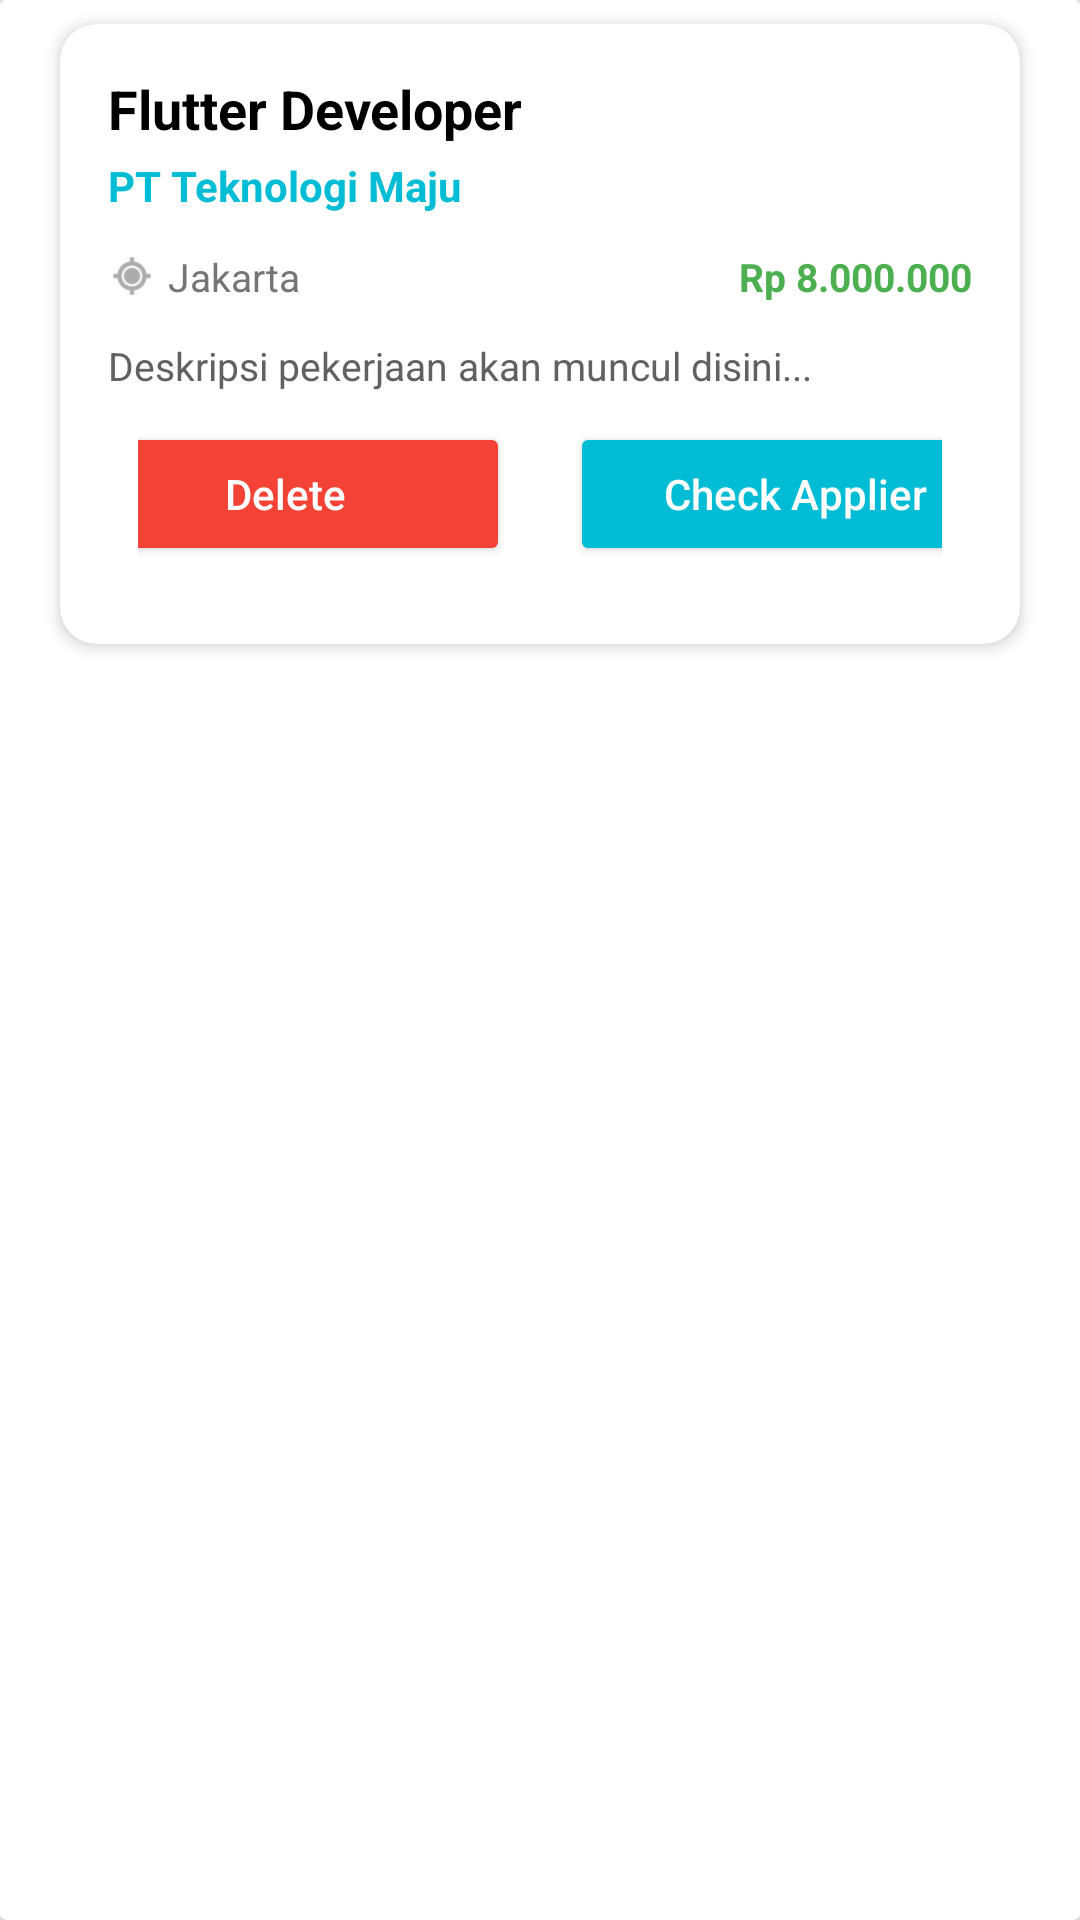

Named icons in this screenshot (1080px×1920px) and their bounding boxes, [x1=x1, y1=y1, x2=x2, y2=y2]:
mylocation: [x1=113, y1=257, x2=151, y2=295]
